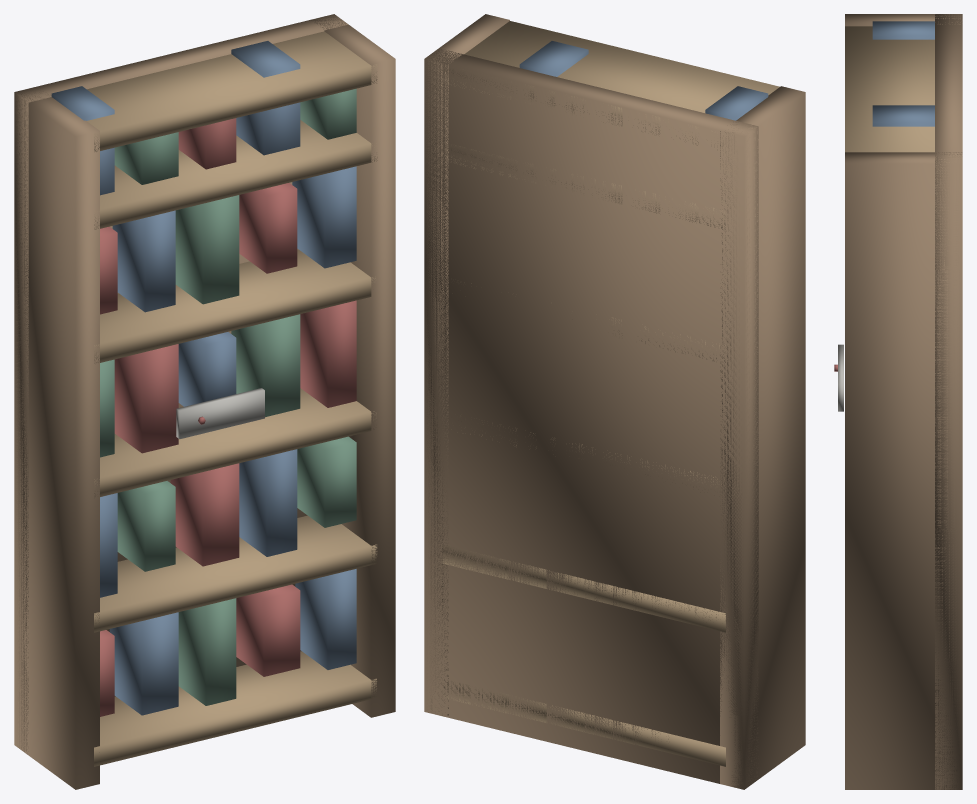
The model's file is bookcase_bay__compact.glb.
3 views of the same model, side by side, from view 1: azimuth 30°, elevation 25°; view 2: azimuth 150°, elevation 25°; view 3: azimuth 270°, elevation 25° (orthographic). The views are drawn at different scales.
Visible parts, largest first — view 1: world; view 2: world; view 3: world.
Boxes of the visible parts, <box> form: world: <box>14,14,395,789</box>; world: <box>424,14,805,789</box>; world: <box>834,14,962,789</box>.
Size of the model in its own units: 0.882 by 1.73 by 0.3191.
